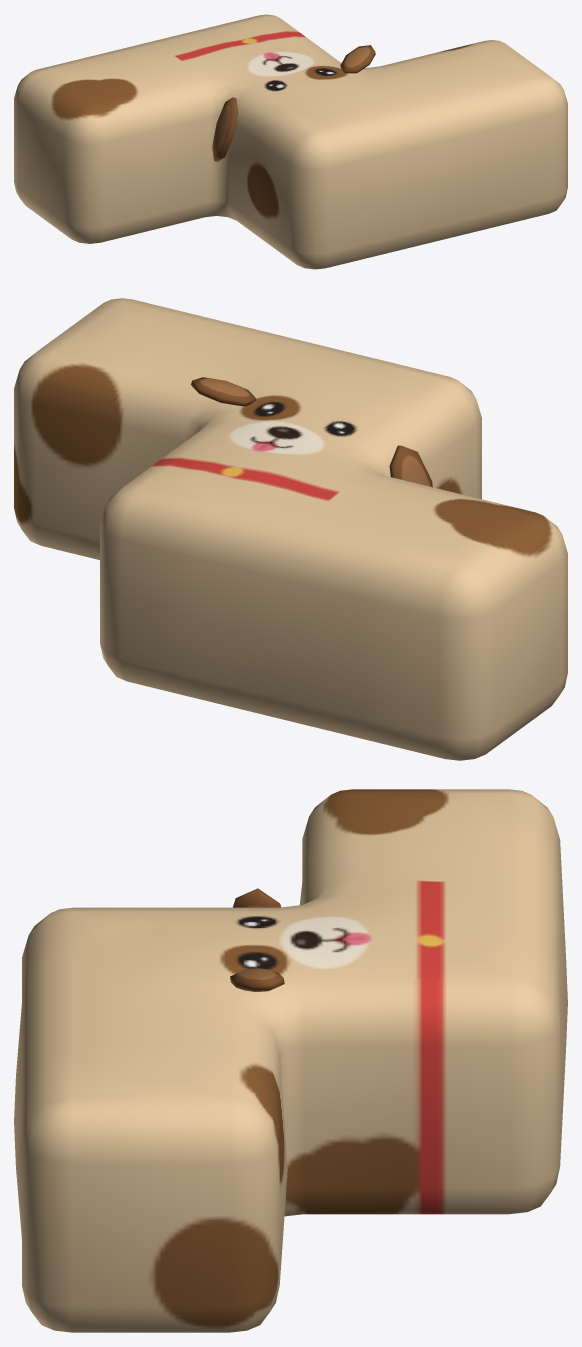
Rendered from Dog_SMirror.fbx.
The picture shows the model from 3 angles, top to bottom: view 1: azimuth 30°, elevation 25°; view 2: azimuth 150°, elevation 25°; view 3: azimuth 270°, elevation 25°; orthographic projection. The views are drawn at different scales.
Visible parts, largest first — view 1: Dog_SMirror; view 2: Dog_SMirror; view 3: Dog_SMirror.
Part boxes in pixels (x1,y1,x2,y2): Dog_SMirror: (14, 14, 567, 269); Dog_SMirror: (14, 298, 567, 760); Dog_SMirror: (14, 789, 567, 1332).
Size of the model in its own units: 2.98 by 0.9674 by 1.98.
Materials: 1 (1 with a texture image).
